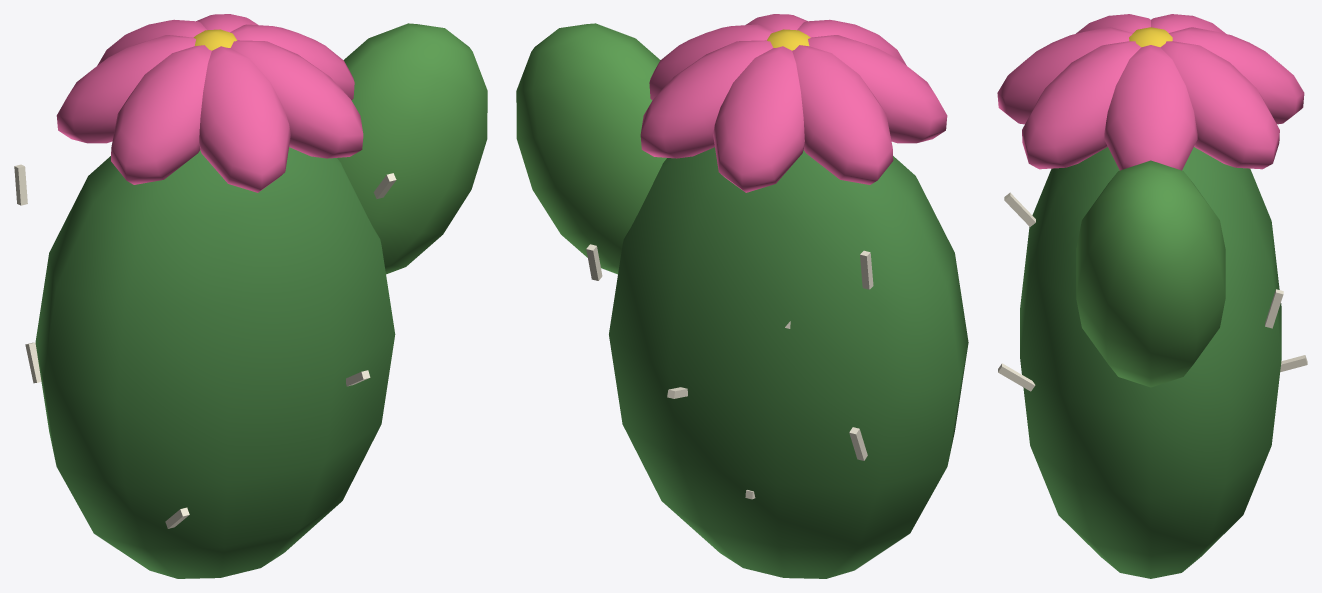
The model's file is cactusflor.glb.
3 views of the same model, side by side, from view 1: azimuth 30°, elevation 25°; view 2: azimuth 150°, elevation 25°; view 3: azimuth 270°, elevation 25° (orthographic).
Visible parts, largest first — view 1: cactusflor; view 2: cactusflor; view 3: cactusflor.
Boxes of the visible parts, bbox=[...] form: cactusflor: bbox=[14, 14, 487, 578]; cactusflor: bbox=[516, 14, 968, 578]; cactusflor: bbox=[997, 14, 1307, 578].
Bounding box in the file's own units: 0.2548 × 0.3 × 0.1579.
